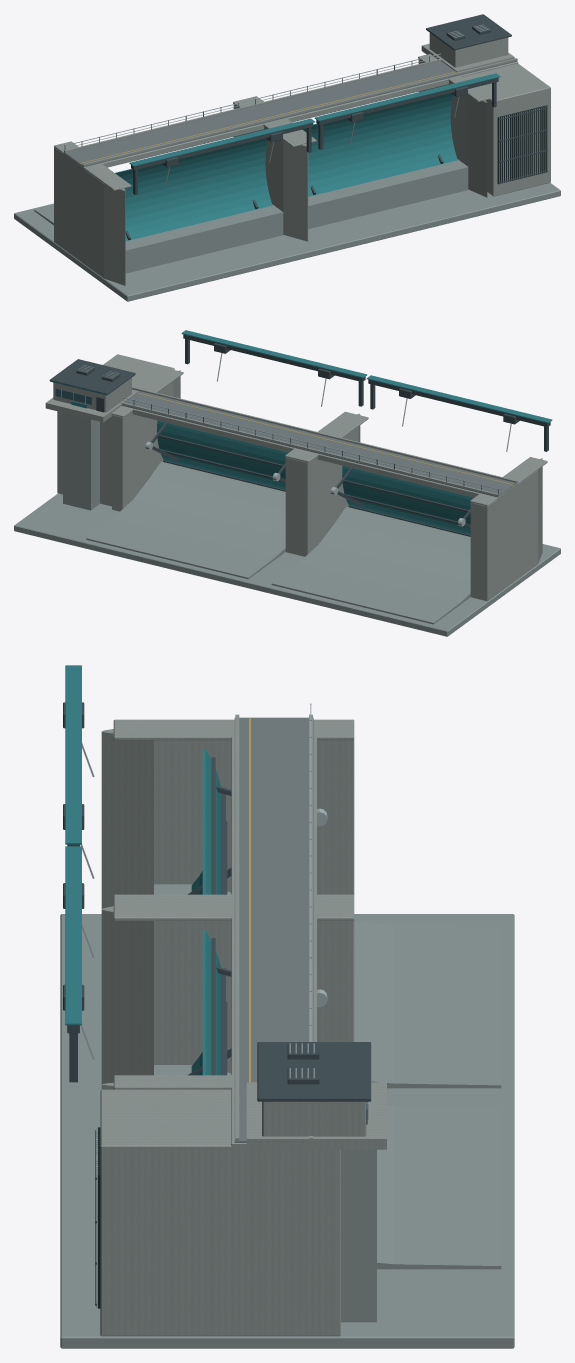
Rendered from Dam_Module75_LOD0.fbx.
The picture shows the model from 3 angles, top to bottom: view 1: azimuth 30°, elevation 25°; view 2: azimuth 150°, elevation 25°; view 3: azimuth 270°, elevation 25°; orthographic projection. The views are drawn at different scales.
Parts seen in each view (by area): view 1: Dam_Module75_LOD0; view 2: Dam_Module75_LOD0; view 3: Dam_Module75_LOD0.
Boxes of the visible parts, box(x1,y1,x2,y2) form: Dam_Module75_LOD0: box(14, 14, 560, 301); Dam_Module75_LOD0: box(14, 330, 560, 636); Dam_Module75_LOD0: box(60, 665, 514, 1348).
Size of the model in its own units: 7500 by 2208 by 3400.
Materials: 9 (1 with a texture image).
